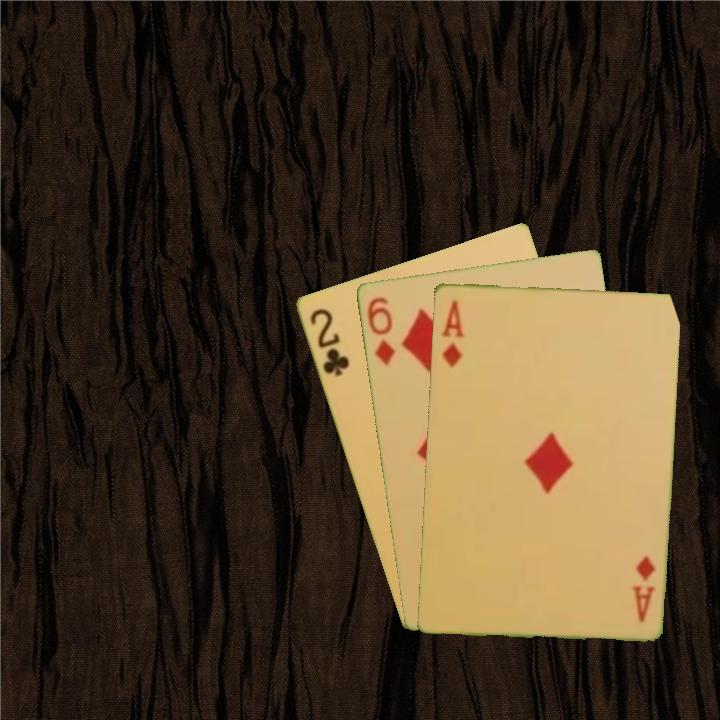2c: (305, 304, 352, 379)
6d: (363, 293, 398, 368)
Ad: (437, 296, 467, 370), (628, 552, 658, 624)
